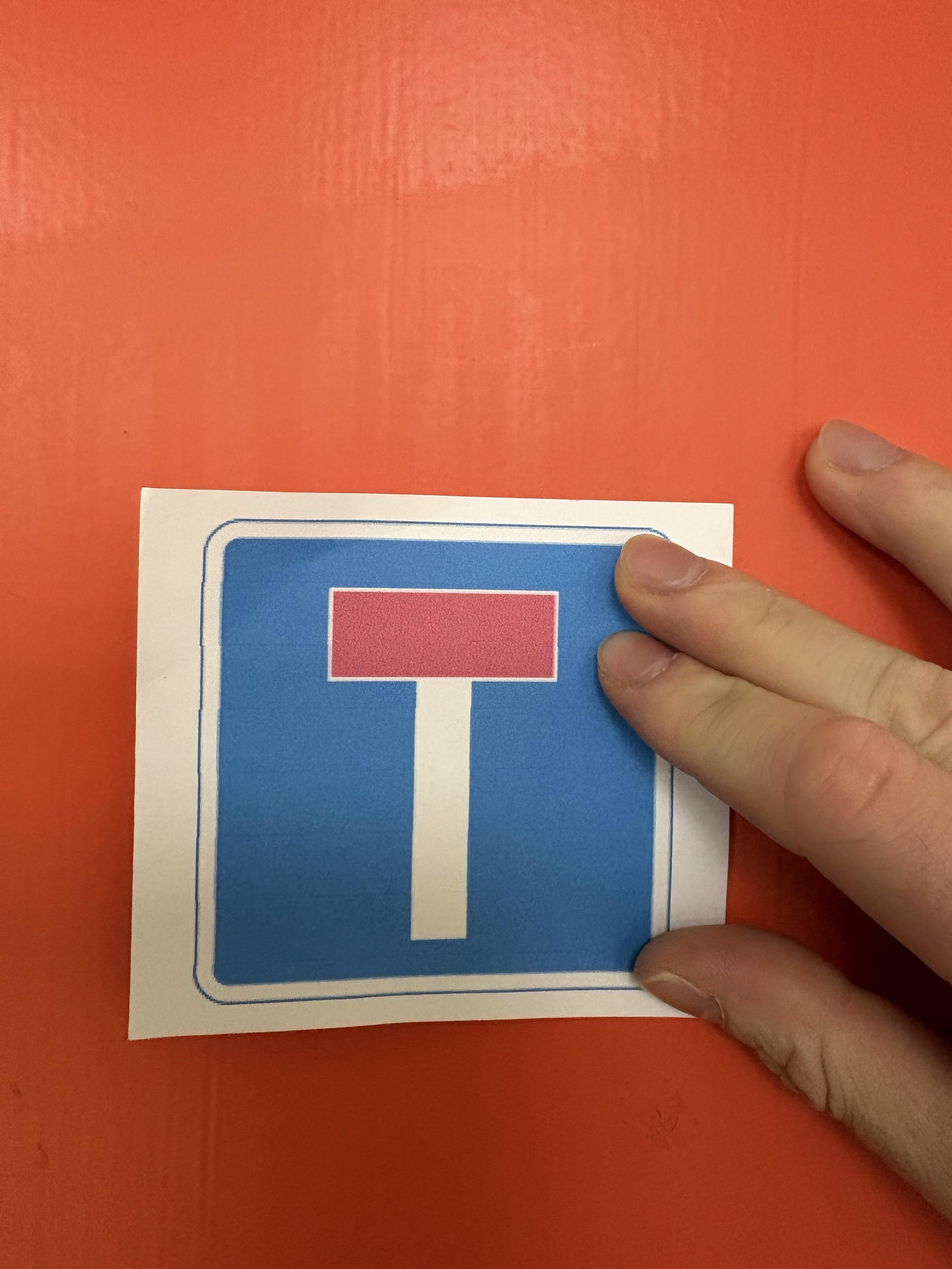Dead End: (95, 654, 550, 1269)
